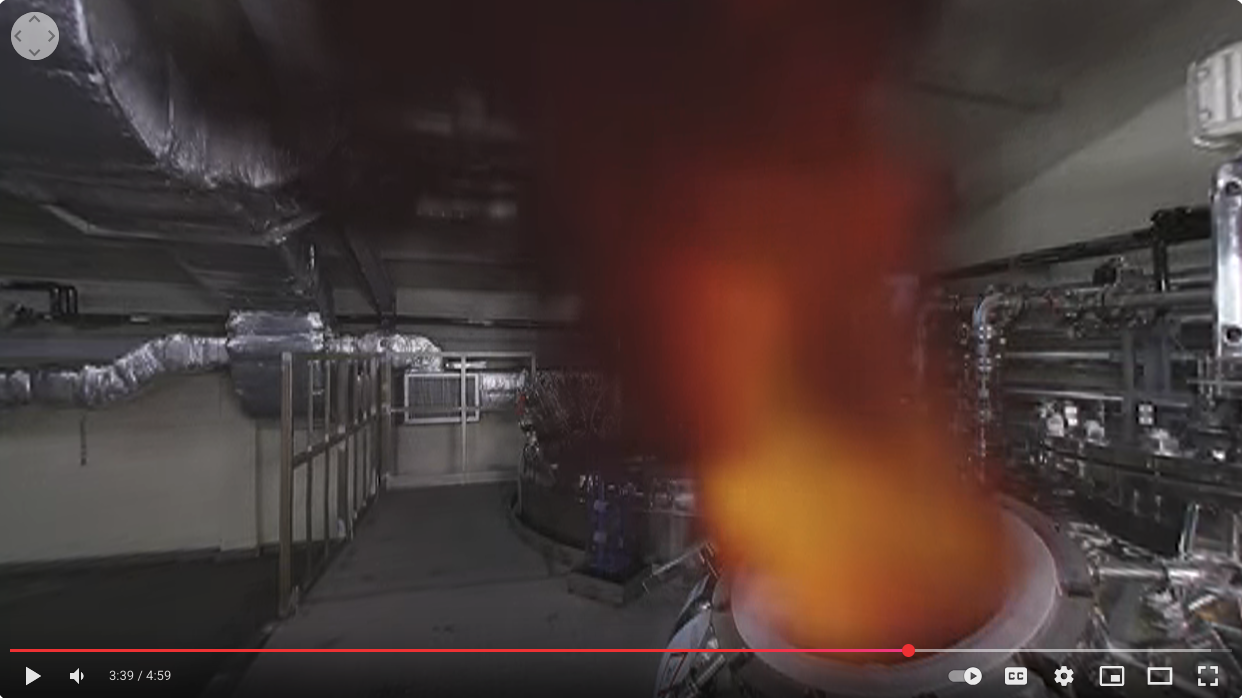fire: (621, 70, 1068, 644)
